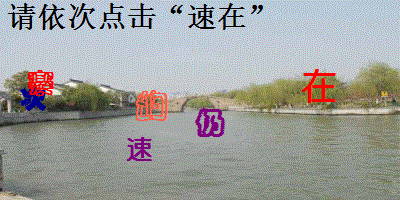text: (300, 68, 339, 105), (134, 89, 169, 122), (193, 107, 226, 139), (26, 69, 56, 97), (124, 136, 155, 163), (19, 85, 48, 111)
